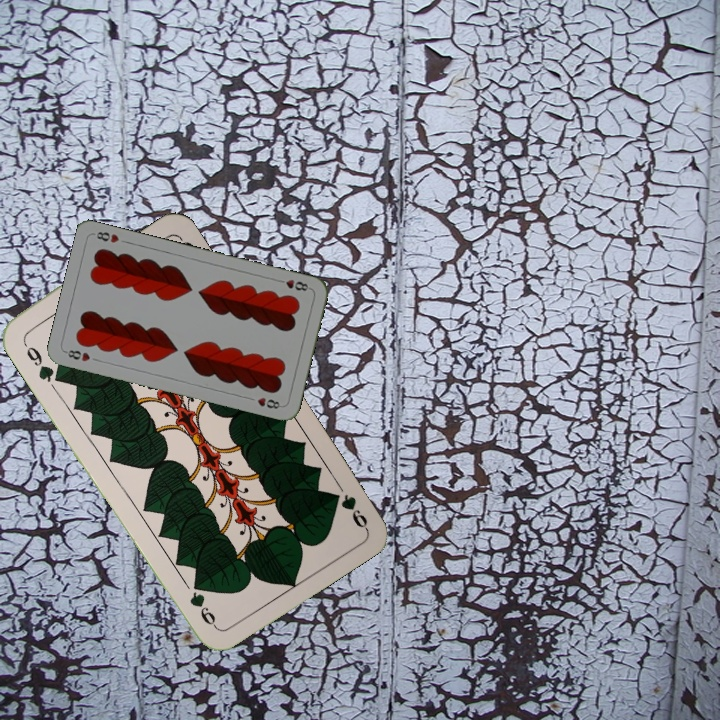G9: (19, 336, 62, 385), (336, 489, 370, 531)
H8: (273, 275, 313, 294), (61, 346, 93, 364)
